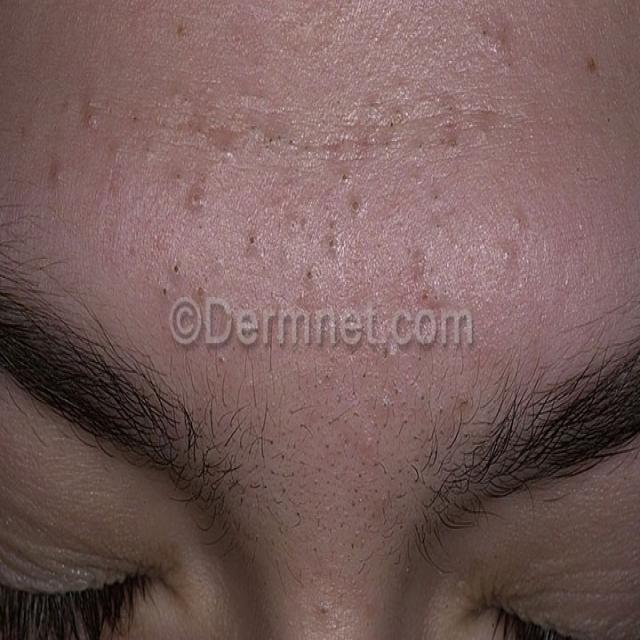Rosacea: (13, 76, 560, 312)
